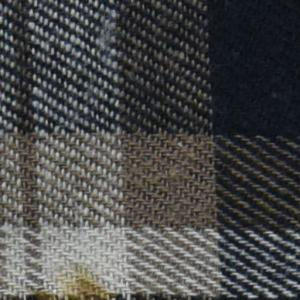Oil Stain: (29, 261, 115, 300)
